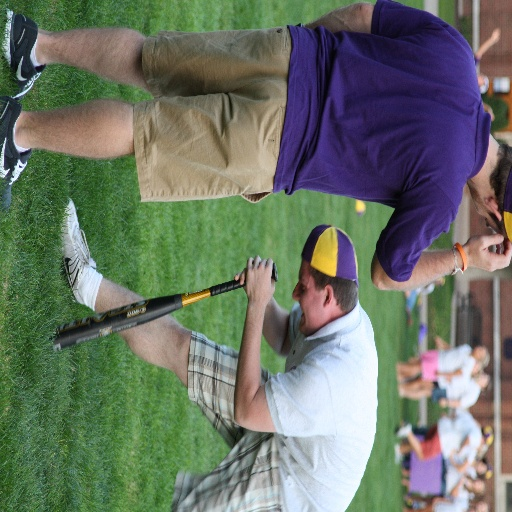hand: (238, 261, 277, 328), (465, 233, 511, 275), (232, 264, 248, 297), (438, 397, 446, 408), (435, 336, 443, 346), (459, 476, 465, 488), (449, 455, 455, 466)
